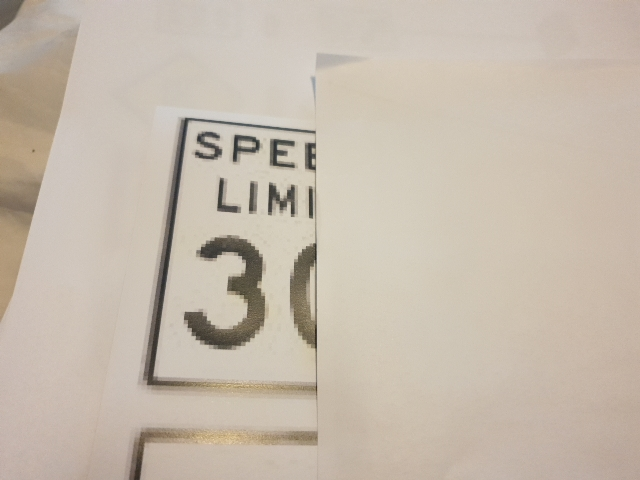sp30: (175, 211, 378, 373)
